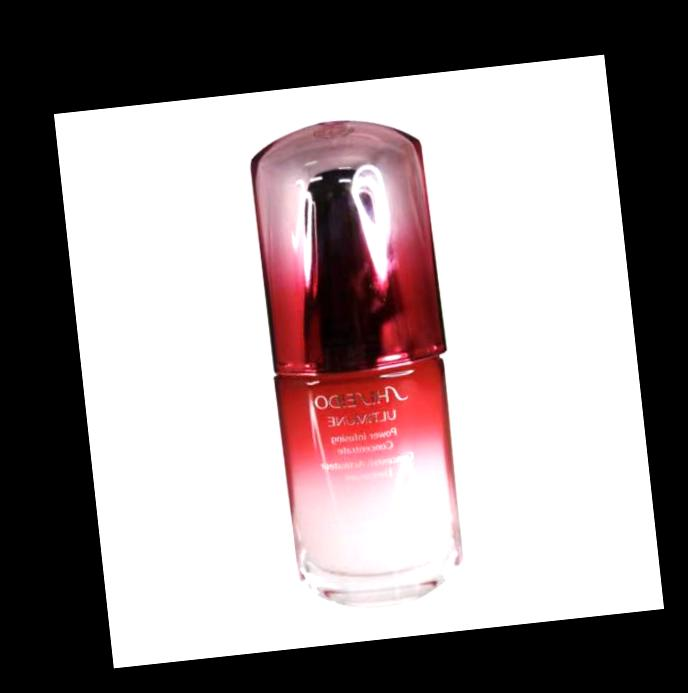cosmetic: (242, 107, 474, 611)
